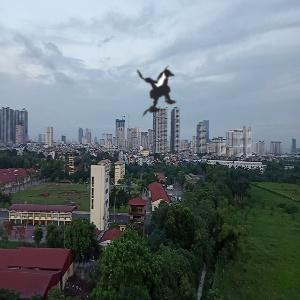drone: (112, 42, 216, 146)
